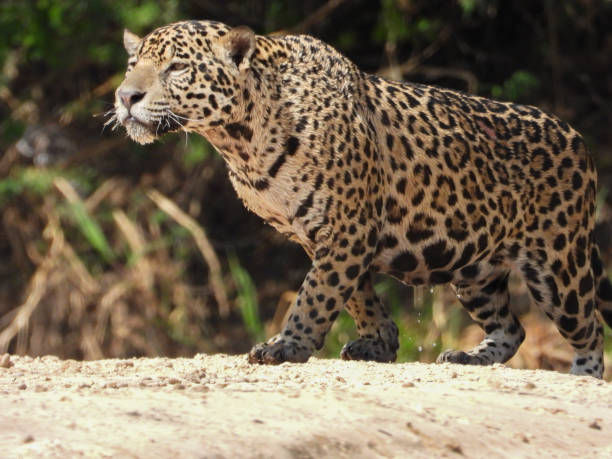cheetah: (93, 6, 277, 158)
